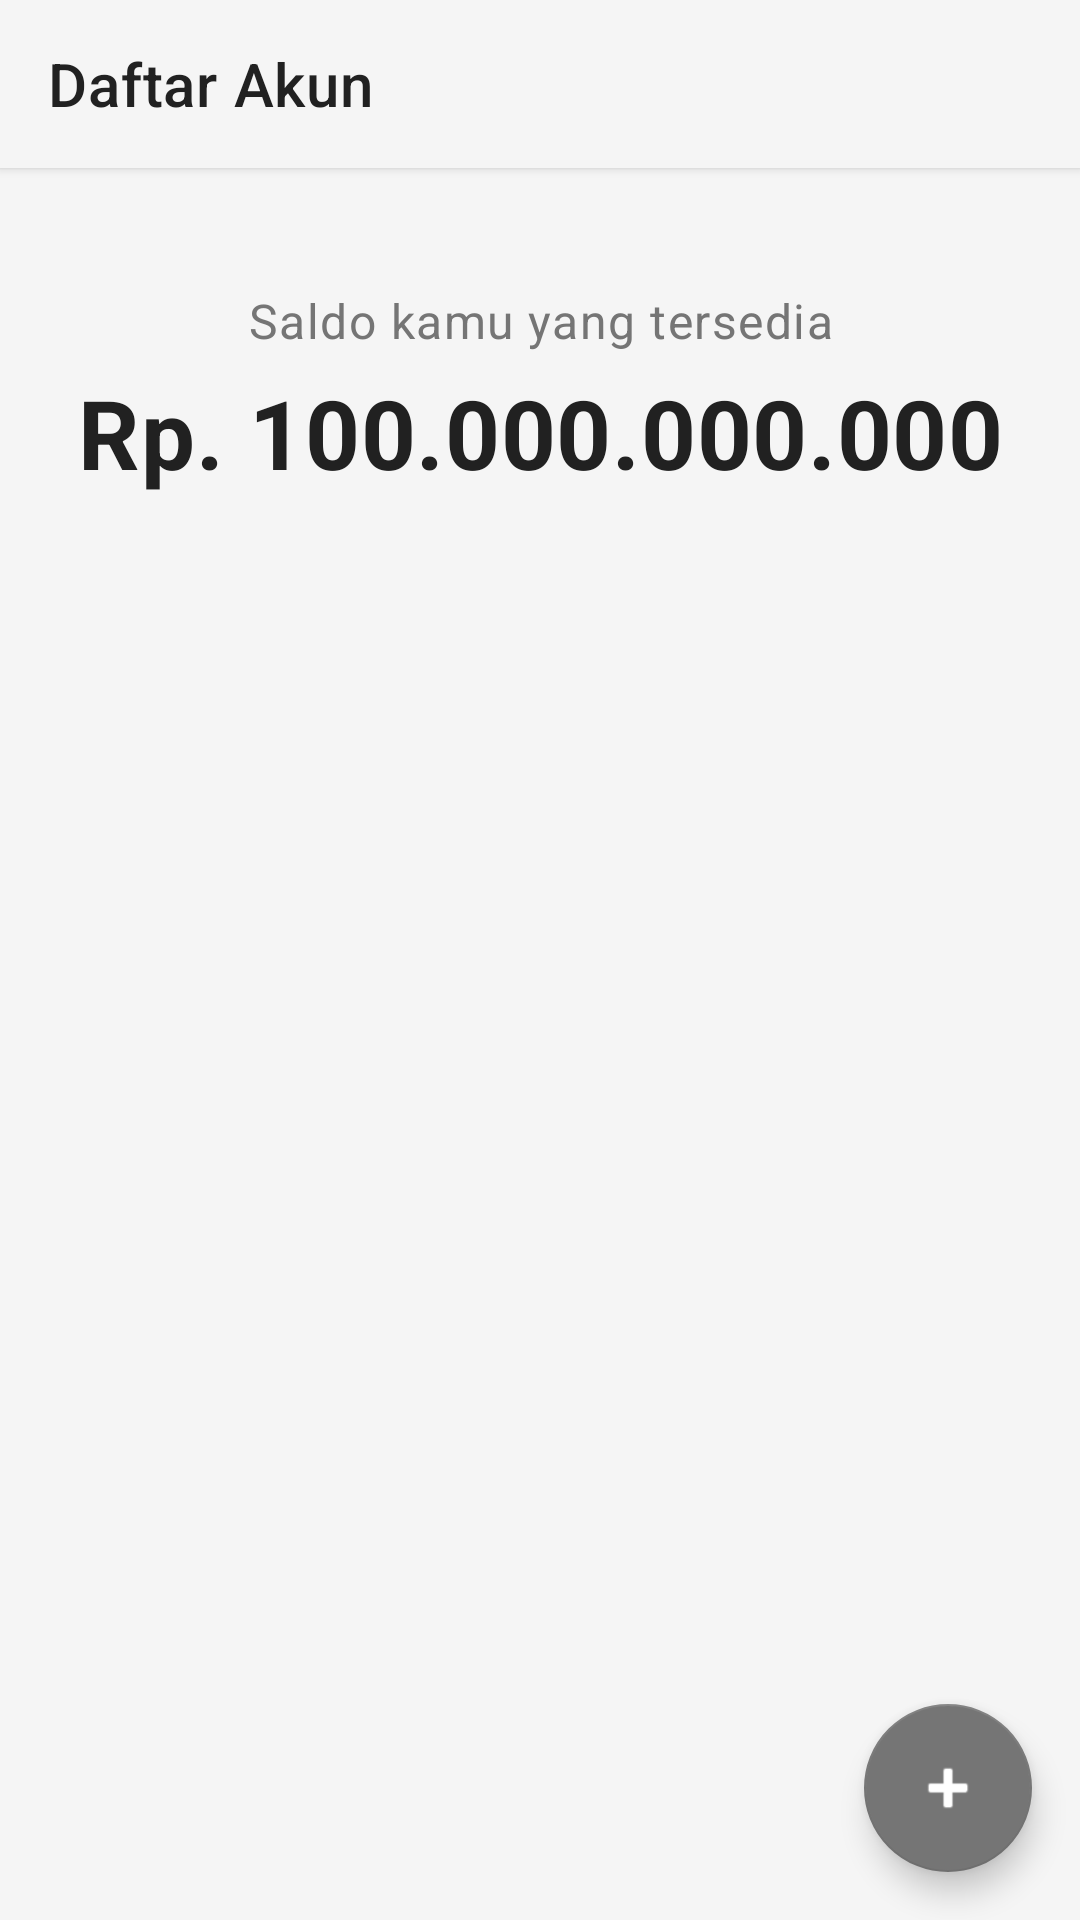

Point at icon controls on the screen. Image size 1080×1920, points as [x,y].
Tambah Akun: [948,1788]
